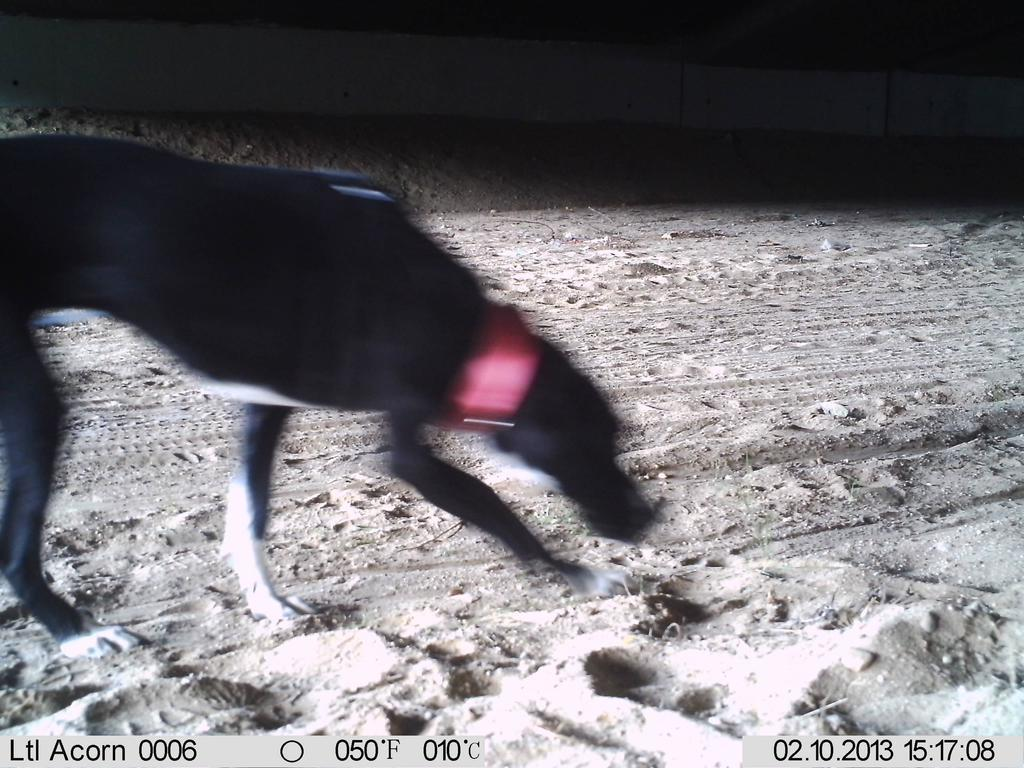dog: (3, 118, 680, 669)
